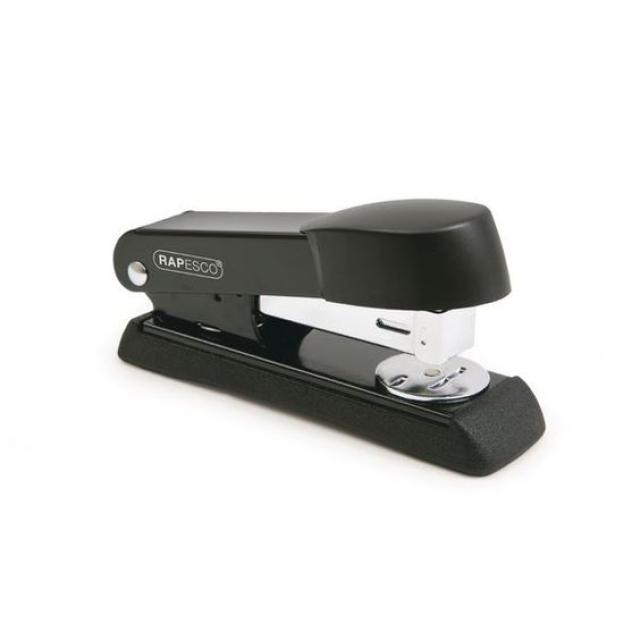Stapler: (38, 167, 553, 498)
